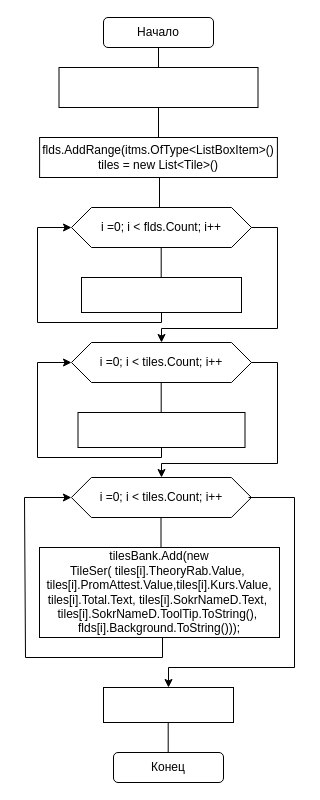
The diagram is 320 pixels wide and 800 high, and some of its shapes have lost their labels. The shapes that lost their labels are listed below. From the top down, each one's box as (x1, y1, x2, y2) in pixels, then its label:
(58, 66, 258, 108): itms = e.NewItems flds = new List<ListBoxItem>()
(80, 276, 242, 312): tiles.Add((Tile)flds[i].Content)
(77, 412, 245, 448): tiles[i].btnThrowOfTile.Click += BtnThrowOfTile_Click_Bank
(102, 686, 234, 722): alltiles[0] = tilesBank
